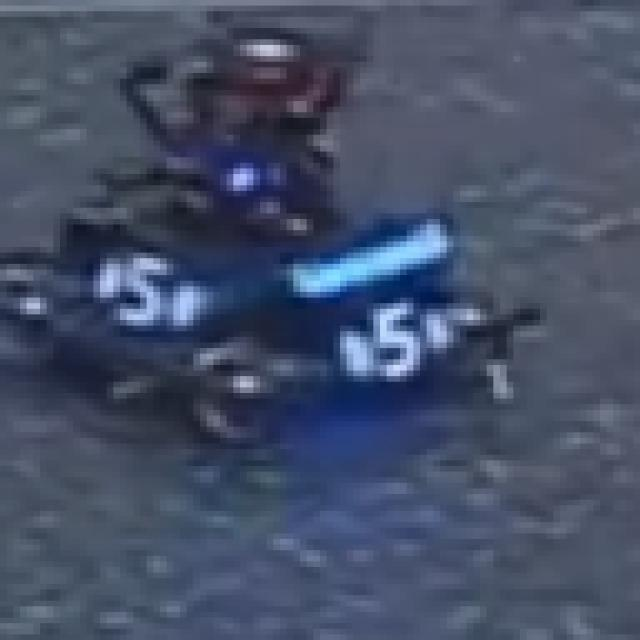B5: (334, 303, 454, 382), (87, 247, 200, 320)
